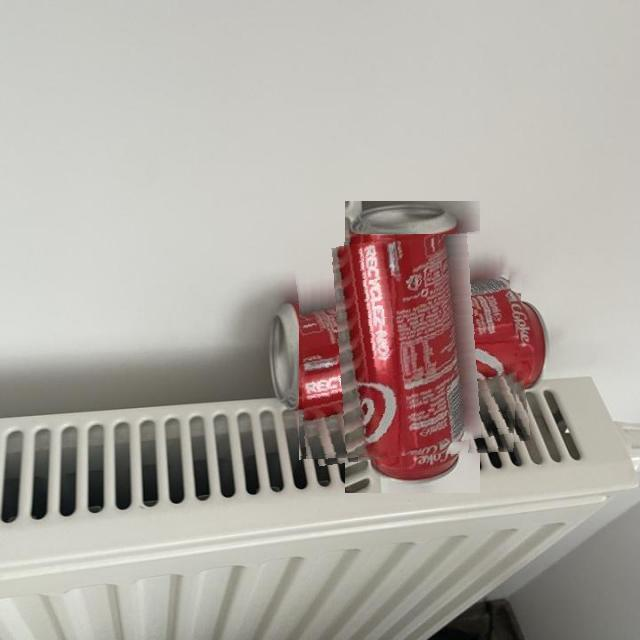recyclable: (299, 234, 525, 460)
